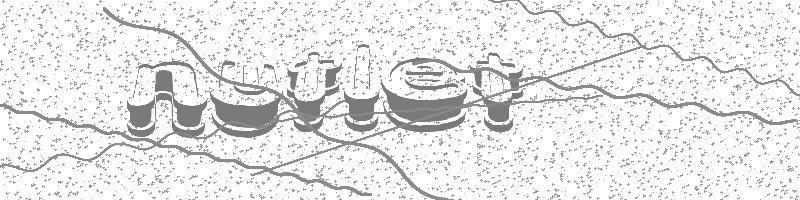e: (378, 52, 472, 132)
l: (343, 39, 386, 130)
n: (124, 56, 208, 143)
t: (467, 50, 528, 151), (289, 45, 341, 135)
u: (211, 56, 285, 140)
